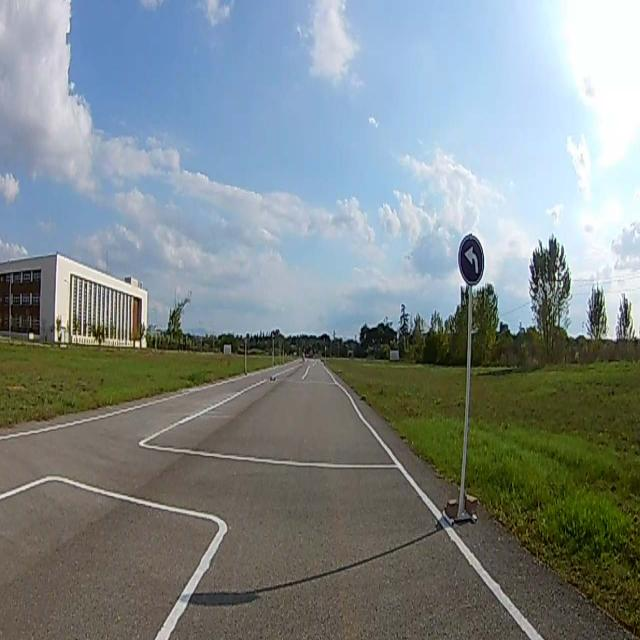sol: (458, 237, 484, 283)
